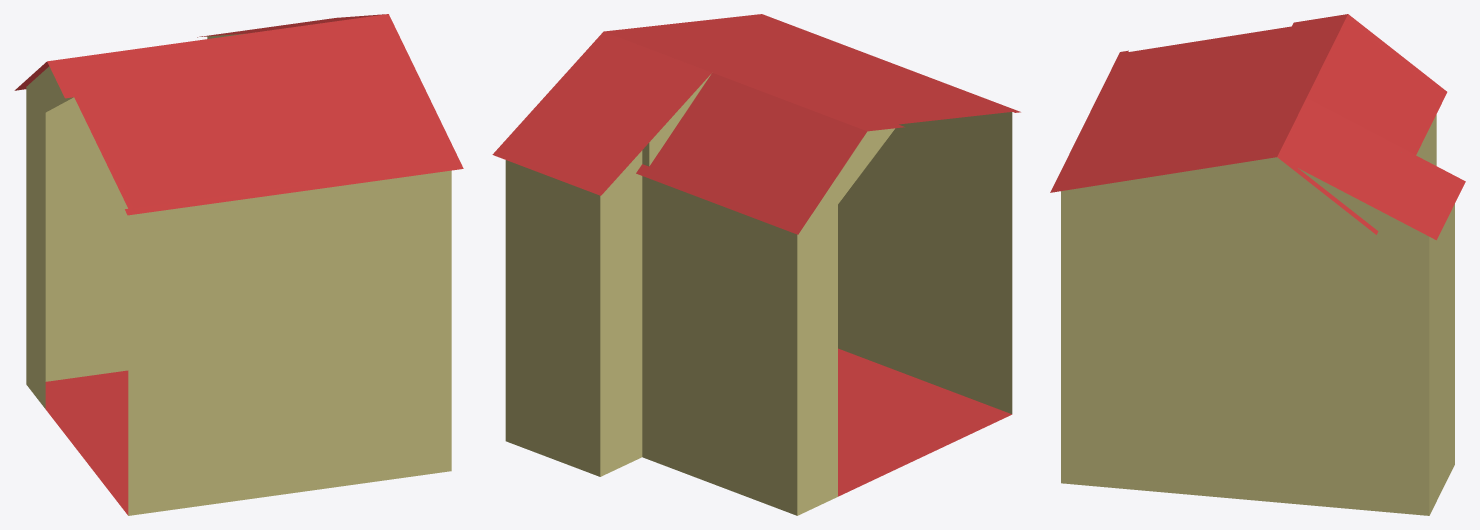
The picture shows the model from 3 angles, left to right: view 1: azimuth 30°, elevation 25°; view 2: azimuth 150°, elevation 25°; view 3: azimuth 270°, elevation 25°; orthographic projection. The views are drawn at different scales.
Bounding box in the file's own units: 11.17 × 11.21 × 10.39.
